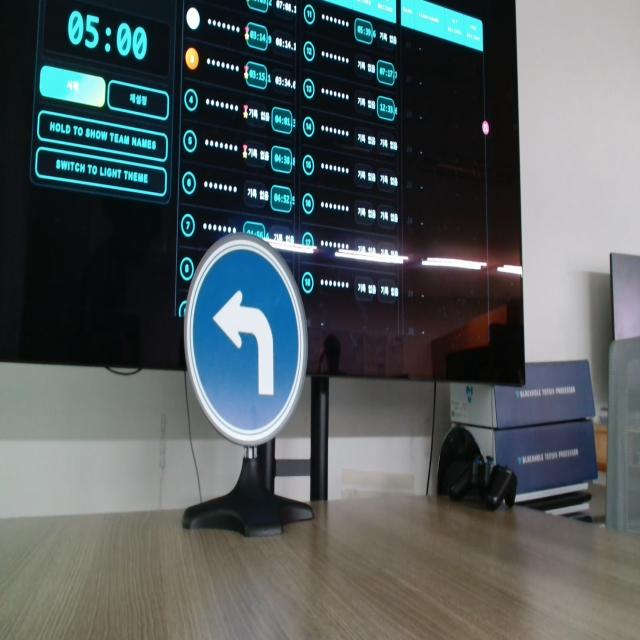left_direction: (171, 212, 327, 459)
